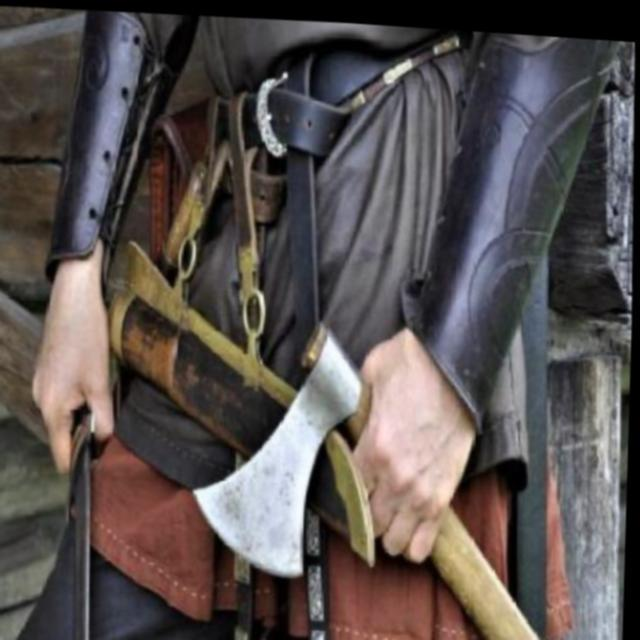weapon: (185, 279, 602, 640)
